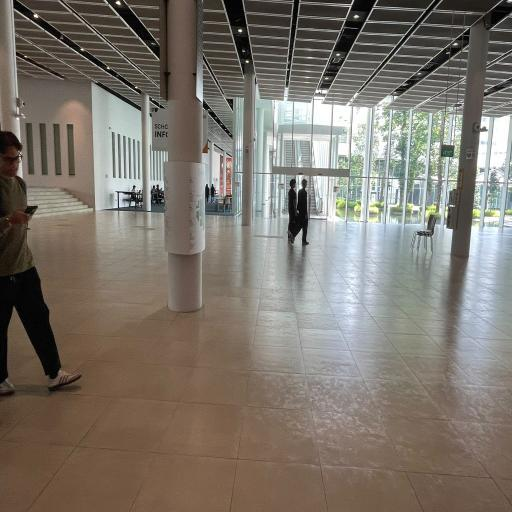person_right: (0, 133, 78, 406), (296, 174, 312, 250)
